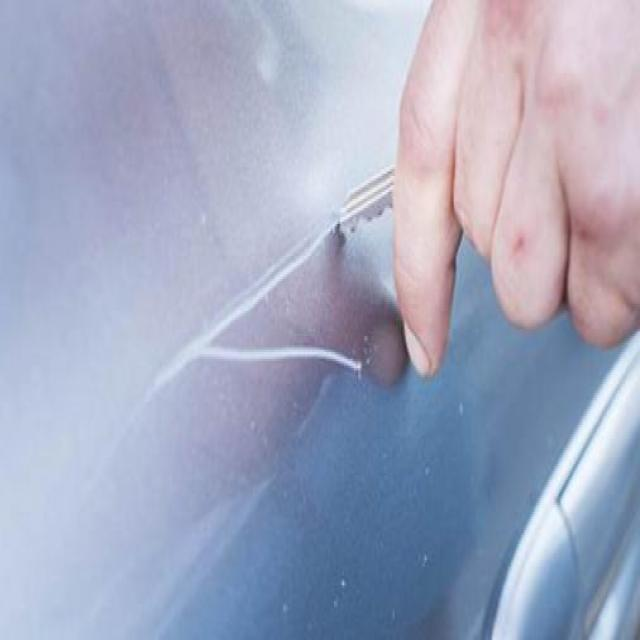scratch: (182, 330, 376, 390)
